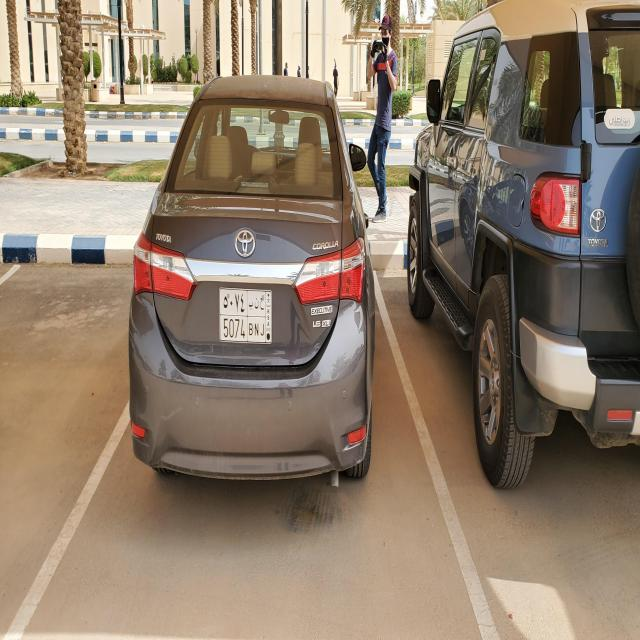license_plate: (218, 286, 274, 348)
